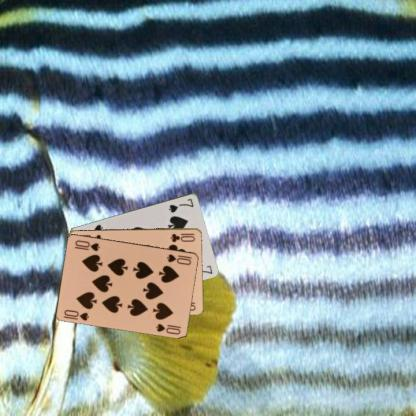10c: (168, 231, 197, 243)
10s: (62, 307, 91, 322), (164, 252, 193, 266)
7s: (166, 196, 195, 214)
